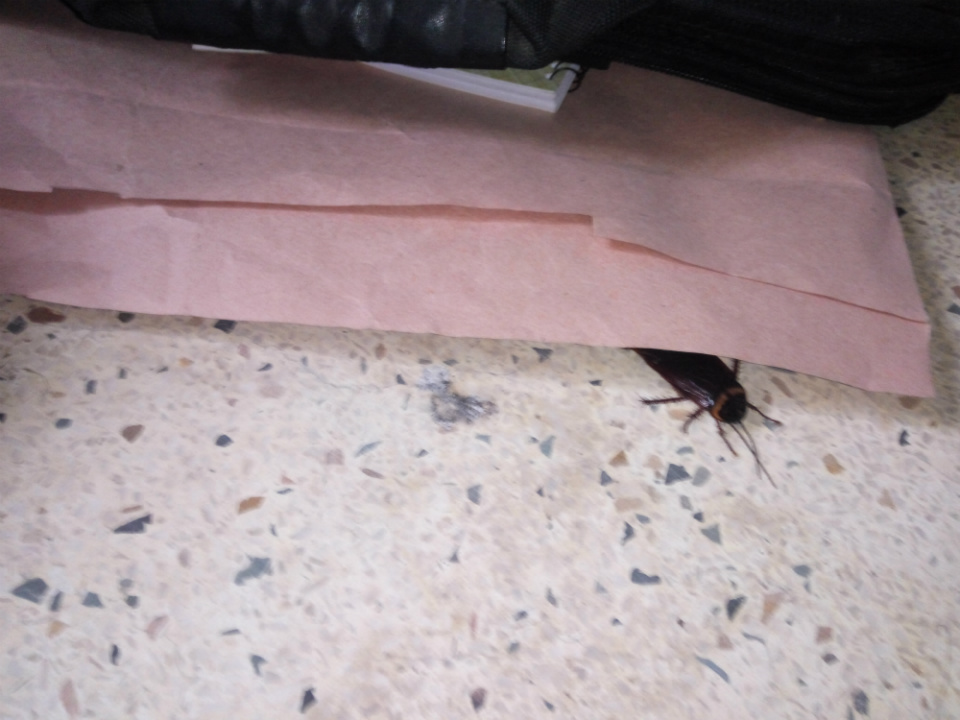cockroach: (589, 349, 801, 489)
